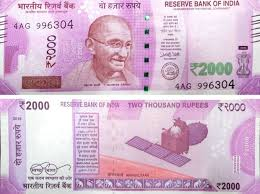twoThousand: (12, 12, 244, 81)
